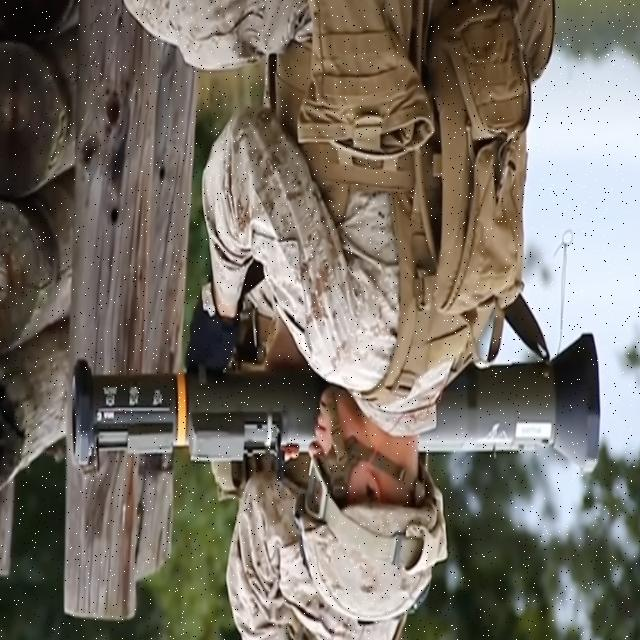bazooka: (63, 323, 609, 498)
